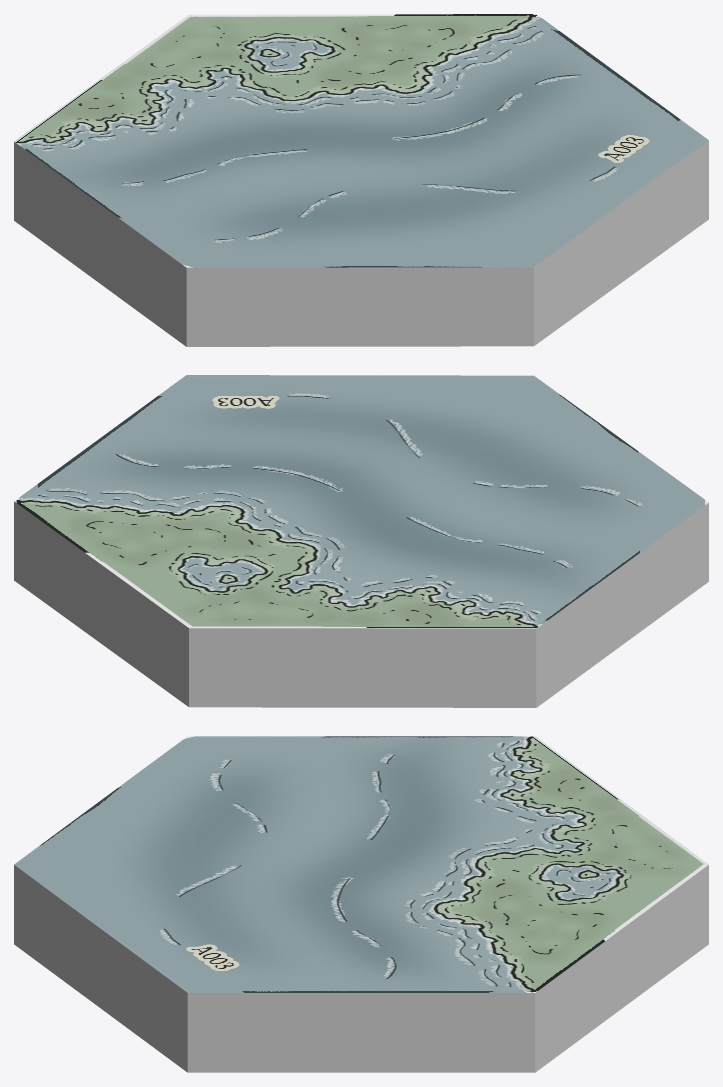
3 renders of one model, top to bottom at view 1: azimuth 30°, elevation 25°; view 2: azimuth 150°, elevation 25°; view 3: azimuth 270°, elevation 25°, orthographic.
Parts seen in each view (by area): view 1: Cylinder; view 2: Cylinder; view 3: Cylinder.
Boxes of the visible parts, x1,y1,x2,y2 form: Cylinder: (14,14,708,346); Cylinder: (14,375,708,707); Cylinder: (14,736,708,1072).
Bounding box in the file's own units: 1.73 × 0.2501 × 1.97.
3 materials, 2 textured.
